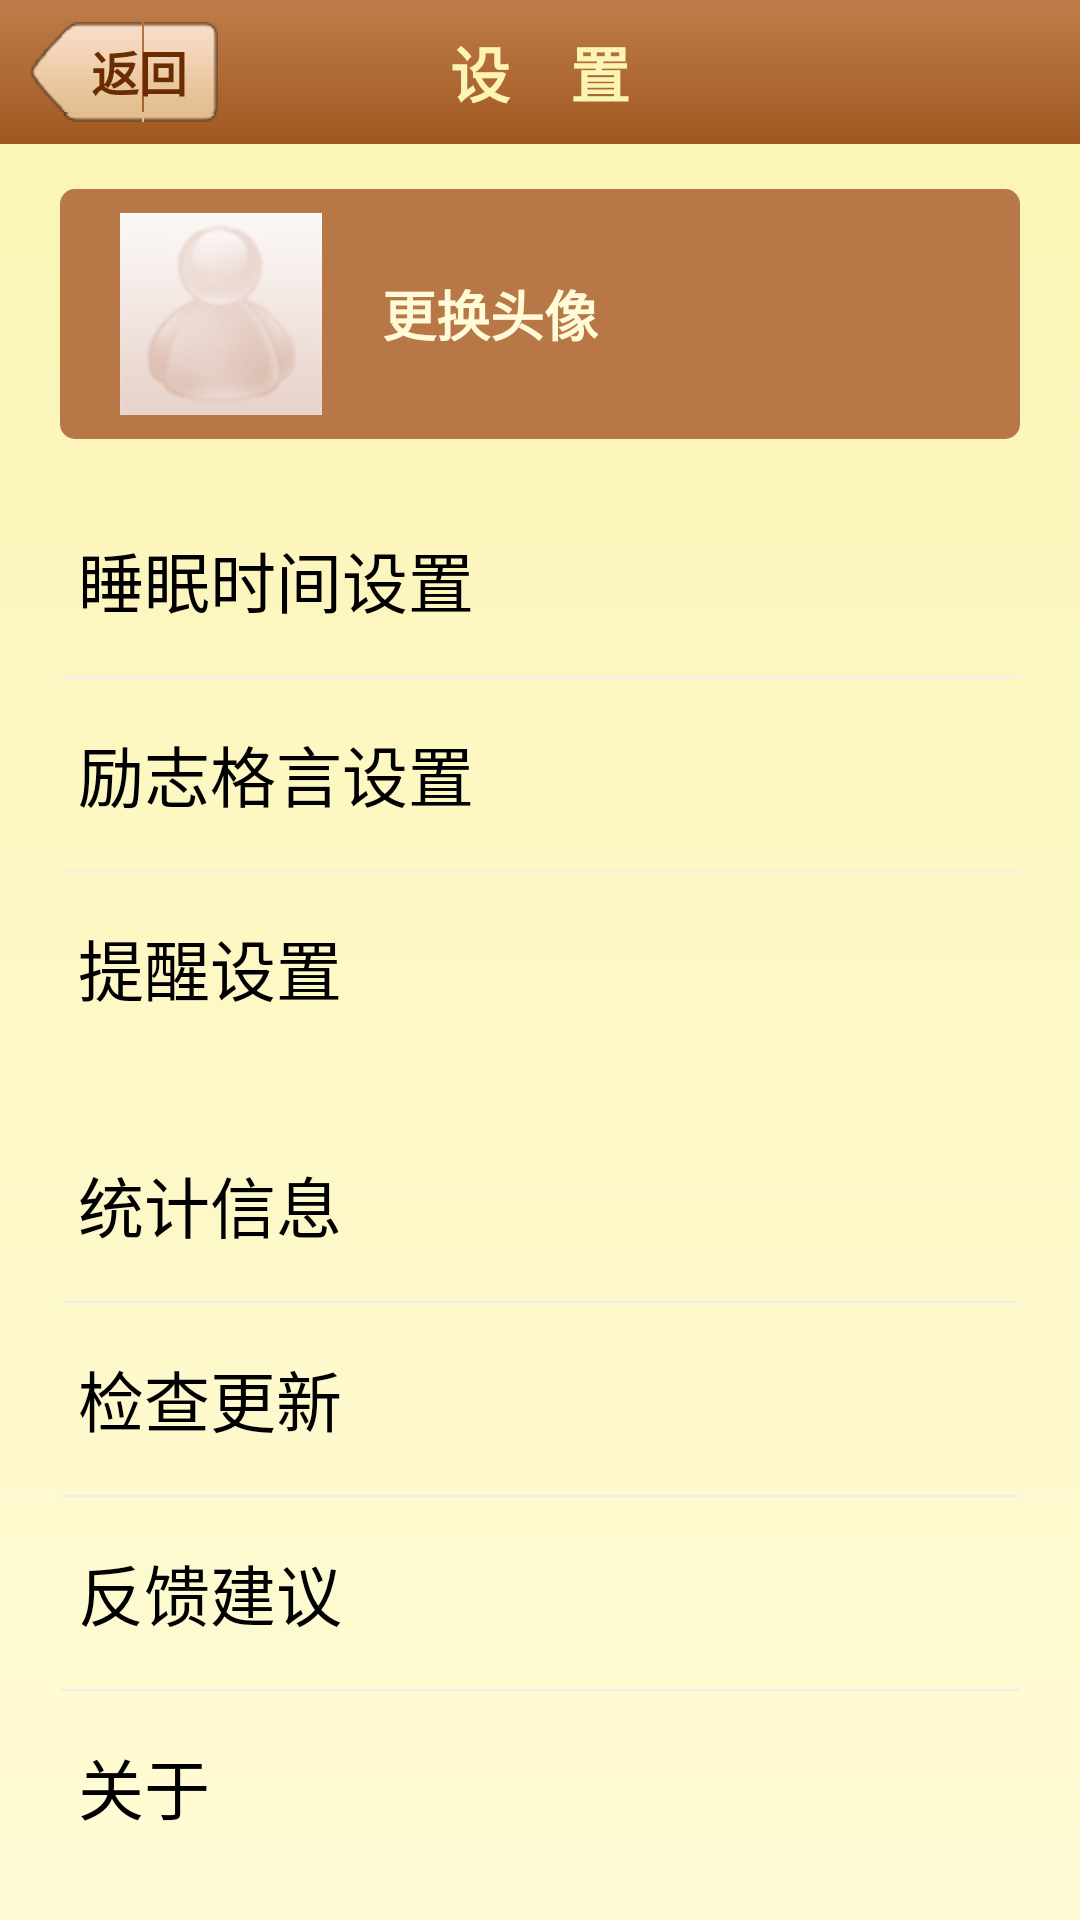

Where icons sit on this 1080x1920 app screen, as {"left": x1, "top": y1, "right": x2, "bottom": y2}:
portrait hold: {"left": 120, "top": 213, "right": 322, "bottom": 415}
